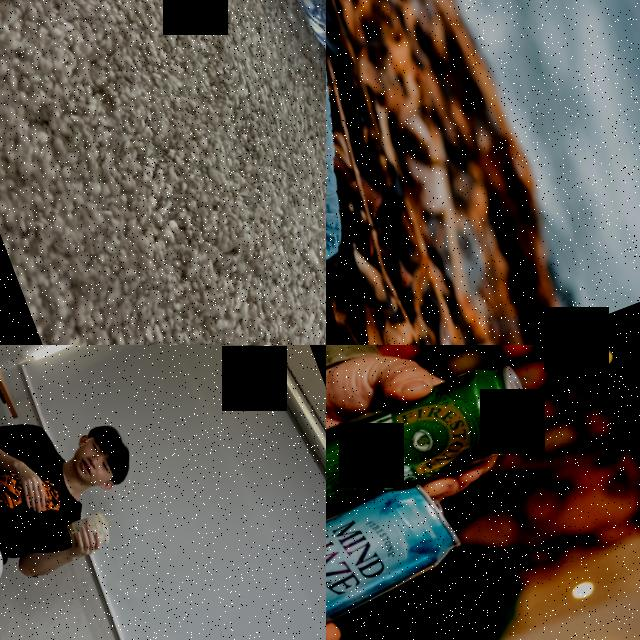bottle: (326, 0, 411, 289)
can: (326, 354, 545, 532), (326, 474, 475, 640)
cup: (61, 509, 117, 561)
